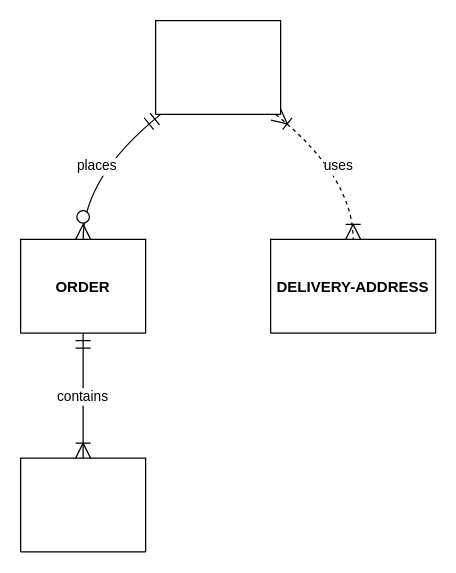
The diagram is 456 pixels wide and 573 high, and some of its shapes have lost their labels. The shapes that lost their labels are listed below. From the top down, each one's centre as x and y in pixels, then its label:
At point 217,66: "CUSTOMER".
At point 82,504: "LINE-ITEM".
